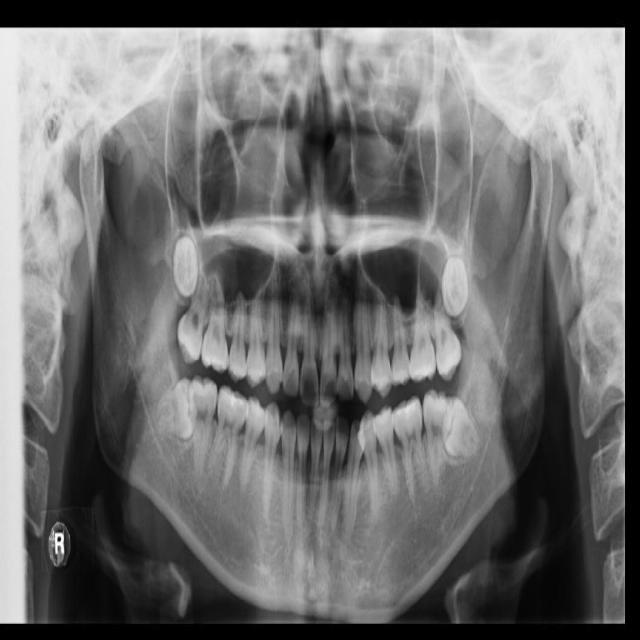3M ESPE Implant: (172, 237, 199, 297)
73: (622, 608, 630, 616)
BioHorizons Implant: (429, 274, 465, 384)
BioLife Implant: (439, 257, 470, 318)
Biomet 3i Implant: (424, 391, 488, 467)
Blue Sky Bio Implant: (422, 390, 454, 479)
Caries: (172, 256, 214, 366)
Implant: (179, 374, 221, 478)
Keystone Dental Implant: (151, 372, 206, 441)
